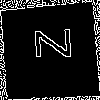Z: (24, 26, 72, 61)
